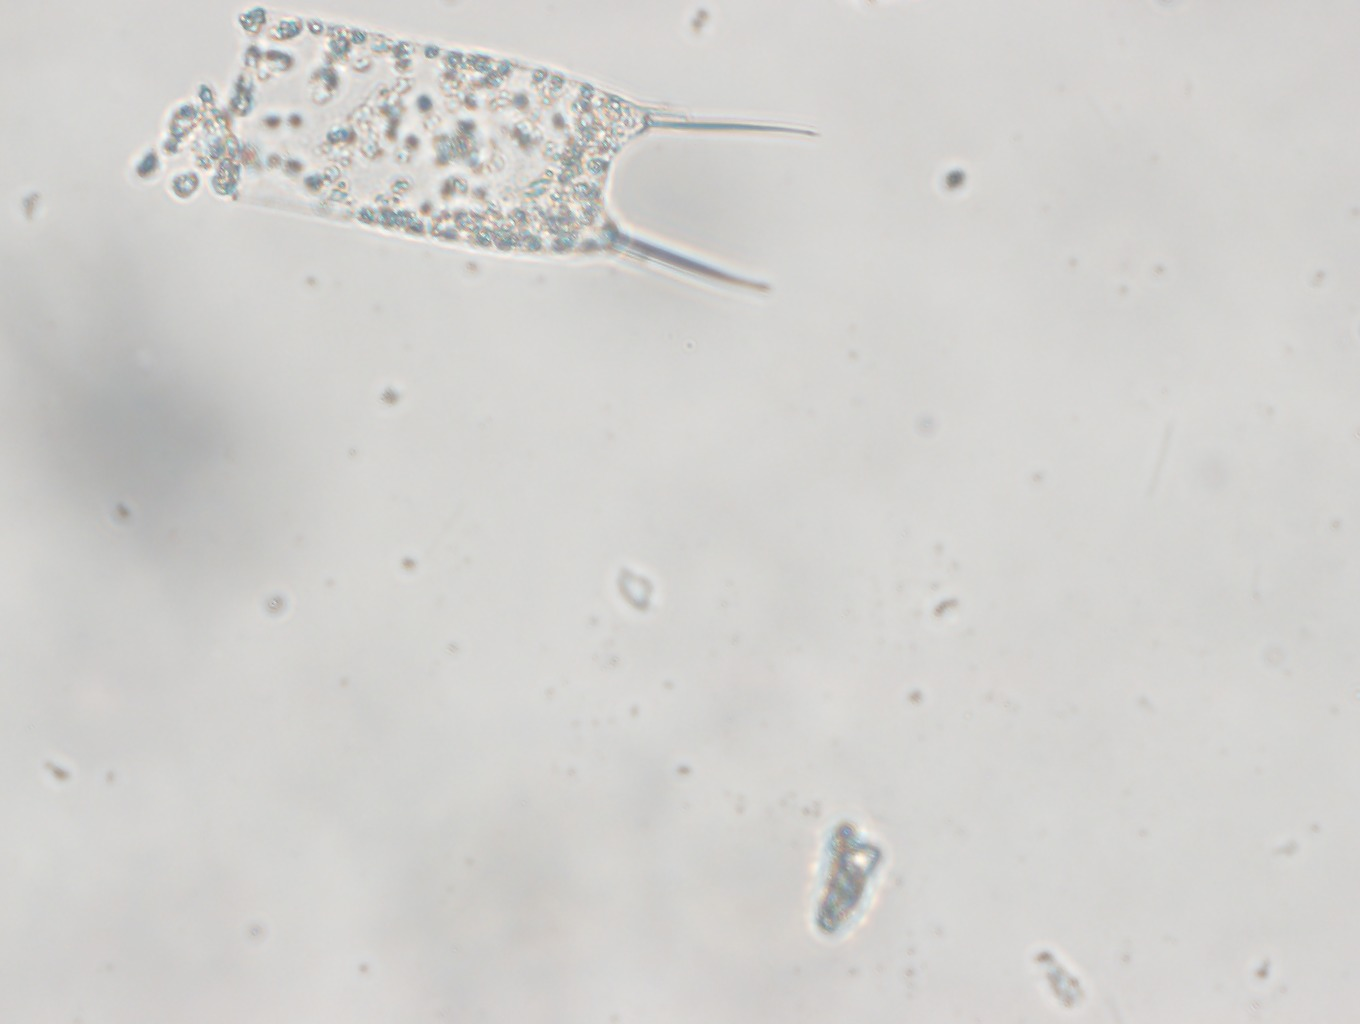biddulphia: (138, 2, 817, 304)
